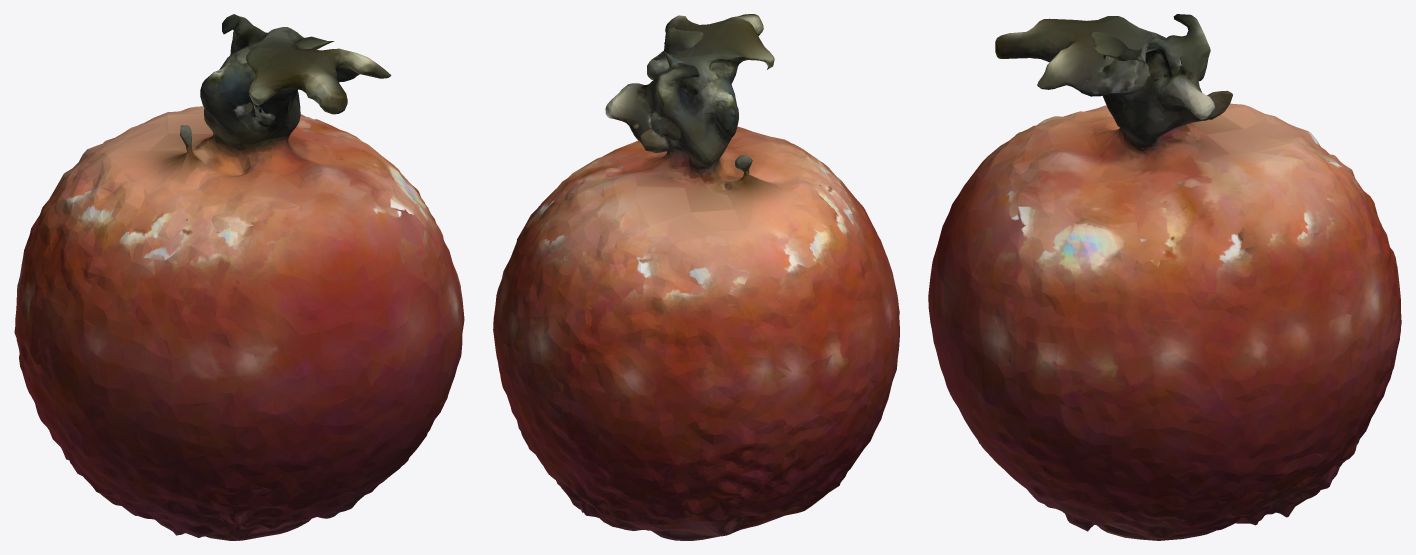
Rendered from Tomate.fbx.
3 views of the same model, side by side, from view 1: azimuth 30°, elevation 25°; view 2: azimuth 150°, elevation 25°; view 3: azimuth 270°, elevation 25° (orthographic). The views are drawn at different scales.
Visible parts, largest first — view 1: Tomate_new_tex_high; view 2: Tomate_new_tex_high; view 3: Tomate_new_tex_high.
Part boxes in pixels (x1,y1,x2,y2): Tomate_new_tex_high: (14,14,464,540); Tomate_new_tex_high: (493,14,899,540); Tomate_new_tex_high: (928,14,1401,540).
Size of the model in its own units: 2.75 by 3.44 by 2.89.
